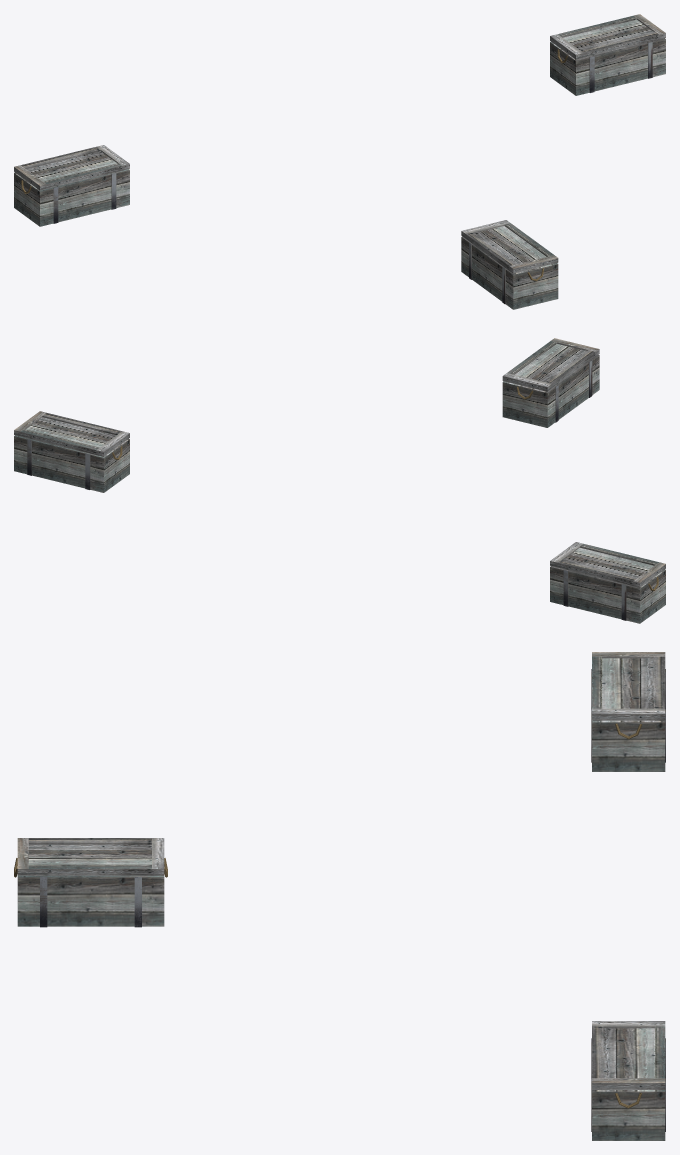
File: coast-1-2.glb
The picture shows the model from 3 angles, top to bottom: view 1: azimuth 30°, elevation 25°; view 2: azimuth 150°, elevation 25°; view 3: azimuth 270°, elevation 25°; orthographic projection. The views are drawn at different scales.
Visible parts, largest first — view 1: coast-1-2; view 2: coast-1-2; view 3: coast-1-2.
Boxes of the visible parts, box(x1,y1,x2,y2) form: coast-1-2: box(14, 14, 665, 309); coast-1-2: box(14, 338, 665, 623); coast-1-2: box(14, 652, 665, 1140).
Size of the model in its own units: 15.29 by 0.958 by 9.7.
9 materials, 9 textured.
